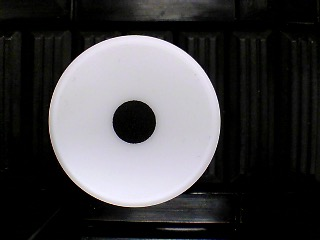BOHO: (48, 34, 221, 208)
